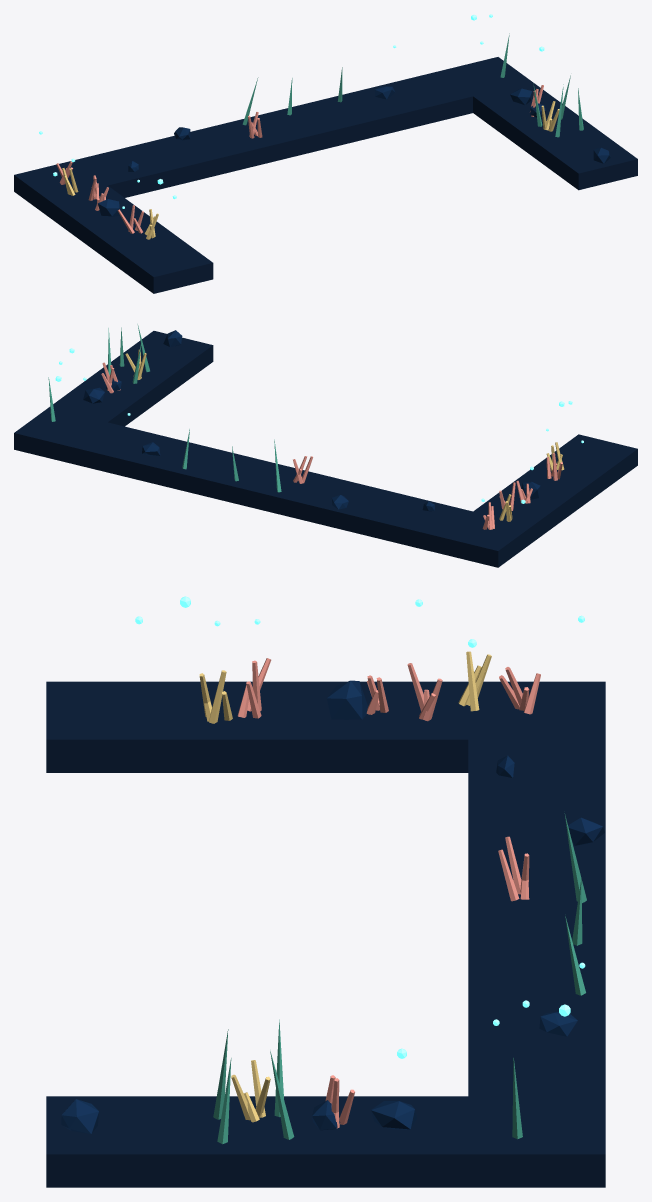
The model's file is ocean.glb.
3 renders of one model, top to bottom at view 1: azimuth 30°, elevation 25°; view 2: azimuth 150°, elevation 25°; view 3: azimuth 270°, elevation 25°, orthographic. The views are drawn at different scales.
Visible parts, largest first — view 1: field_ocean; view 2: field_ocean; view 3: field_ocean.
Part boxes in pixels (x1,y1,x2,y2): field_ocean: [14, 14, 637, 293]; field_ocean: [14, 324, 637, 567]; field_ocean: [46, 596, 605, 1187].
Size of the model in its own units: 10.6 by 1.69 by 5.3.
